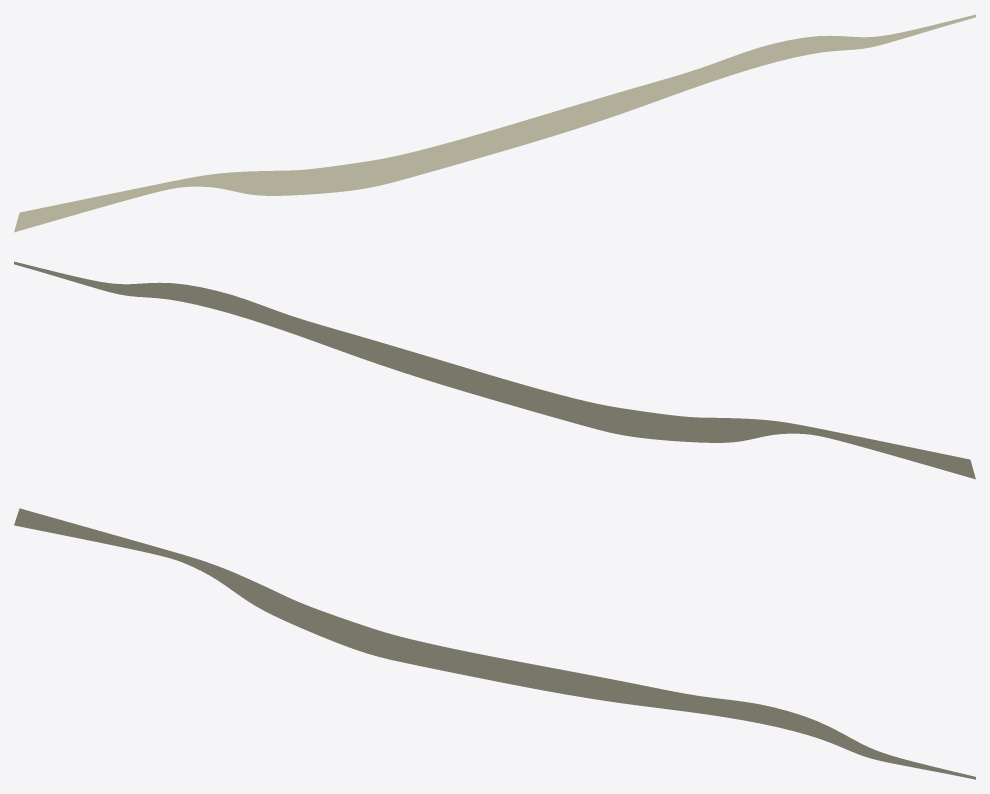
Rendered from Level_02_Boira.fbx.
3 views of the same model, one above another, from view 1: azimuth 30°, elevation 25°; view 2: azimuth 150°, elevation 25°; view 3: azimuth 330°, elevation 25° (orthographic).
Visible parts, largest first — view 1: Level_02_Boira; view 2: Level_02_Boira; view 3: Level_02_Boira.
Part boxes in pixels (<box>): Level_02_Boira: <box>14,14,975,232</box>; Level_02_Boira: <box>14,261,975,479</box>; Level_02_Boira: <box>14,508,975,779</box>.
Size of the model in its own units: 43.85 by 2.66 by 2.86e-05.
